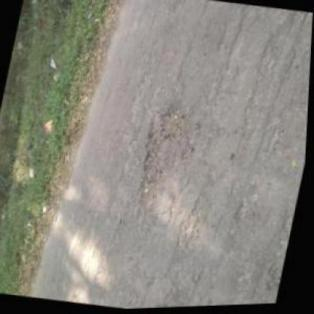Hueco: (133, 100, 195, 216)
